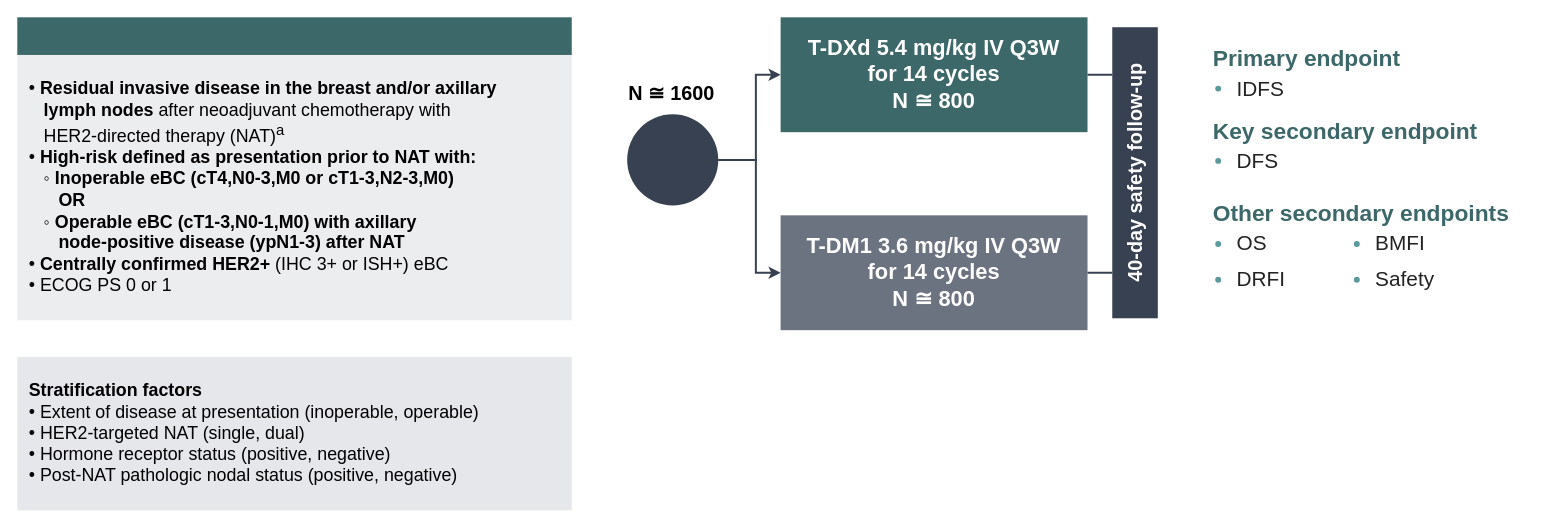
The diagram is 1554 pixels wide and 527 high, and some of its shapes have lost their labels. The box of each missing label's shape, as (x1, y1, x2, y2) in pixels:
Key Eligibility Criteria: (17, 17, 571, 54)
R 1:1: (627, 114, 718, 205)
